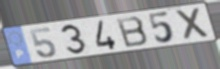3: (60, 22, 89, 57)
4: (95, 19, 118, 51)
5: (147, 10, 178, 45), (28, 26, 58, 59)
B: (115, 15, 151, 49)
X: (174, 6, 212, 42)
